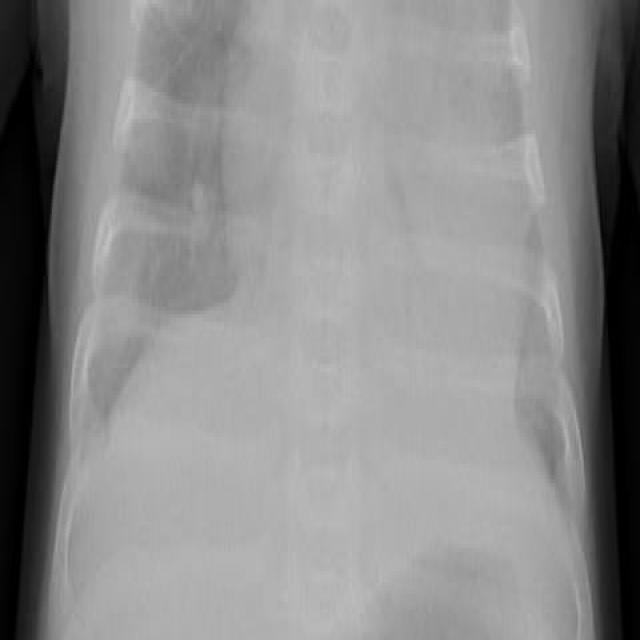low-pneumonia: (181, 49, 233, 311)
